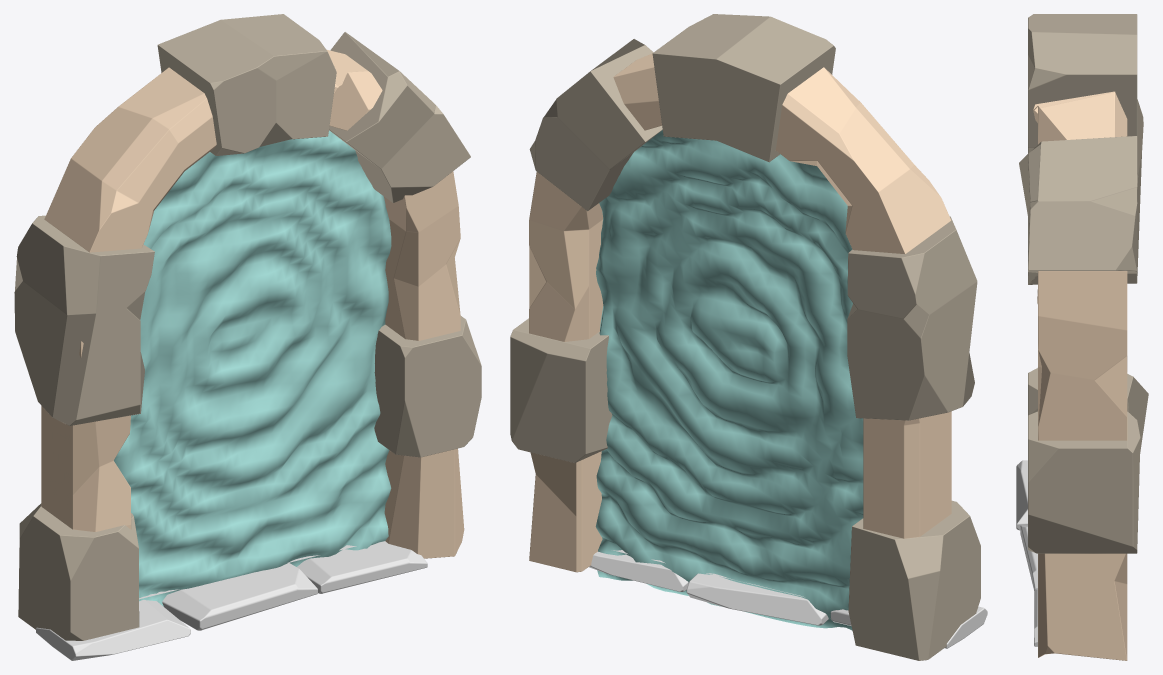
File: portal.fbx
3 renders of one model, left to right at view 1: azimuth 30°, elevation 25°; view 2: azimuth 150°, elevation 25°; view 3: azimuth 270°, elevation 25°, orthographic. The views are drawn at different scales.
Visible parts, largest first — view 1: Plane.003, Plane.001, Plane, Cube.003, Cube.005, Cube.001; view 2: Plane.003, Plane.001, Plane, Cube.003, Cube.005, Cube.001; view 3: Plane.001, Plane, Cube.001, Cube.003, Cube.005.
Boxes of the visible parts, x1,y1,x2,y2 form: Plane.003: (114,130,391,606); Plane.001: (14,14,481,640); Plane: (41,50,464,558); Cube.003: (162,563,317,630); Cube.005: (297,541,427,593); Cube.001: (36,600,190,660); Plane.003: (595,130,863,630); Plane.001: (510,14,980,660); Plane: (529,53,951,572); Cube.003: (686,573,828,625); Cube.005: (589,551,688,591); Cube.001: (830,606,987,648); Plane.001: (1019,14,1148,553); Plane: (1033,91,1127,660); Cube.001: (1016,460,1027,530); Cube.003: (1020,525,1037,590); Cube.005: (1034,588,1037,646).
Bounding box in the file's own units: 298 × 388 × 83.7.
